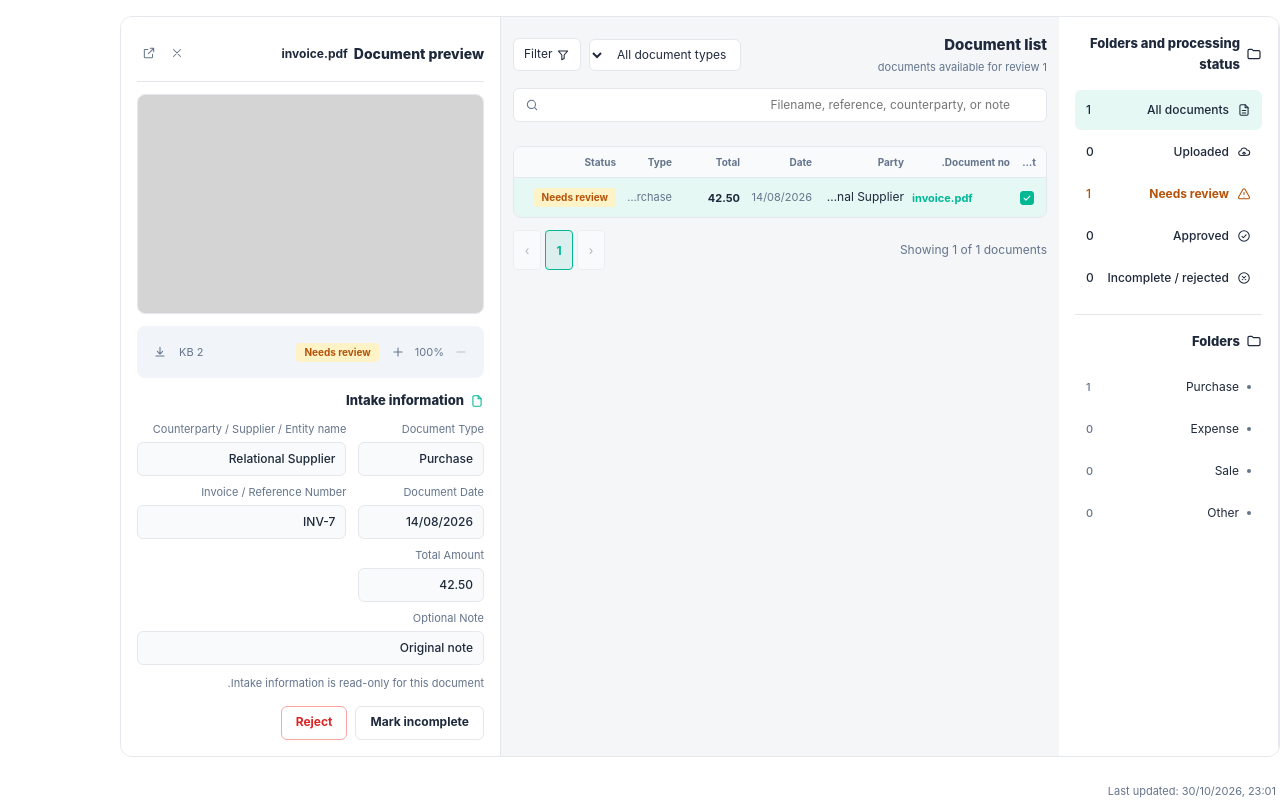
Documents › requires a reason before submitting Reject
(page scrolled)
Click the button "Reject": (314, 723) x1=281 y1=706 x2=348 y2=740
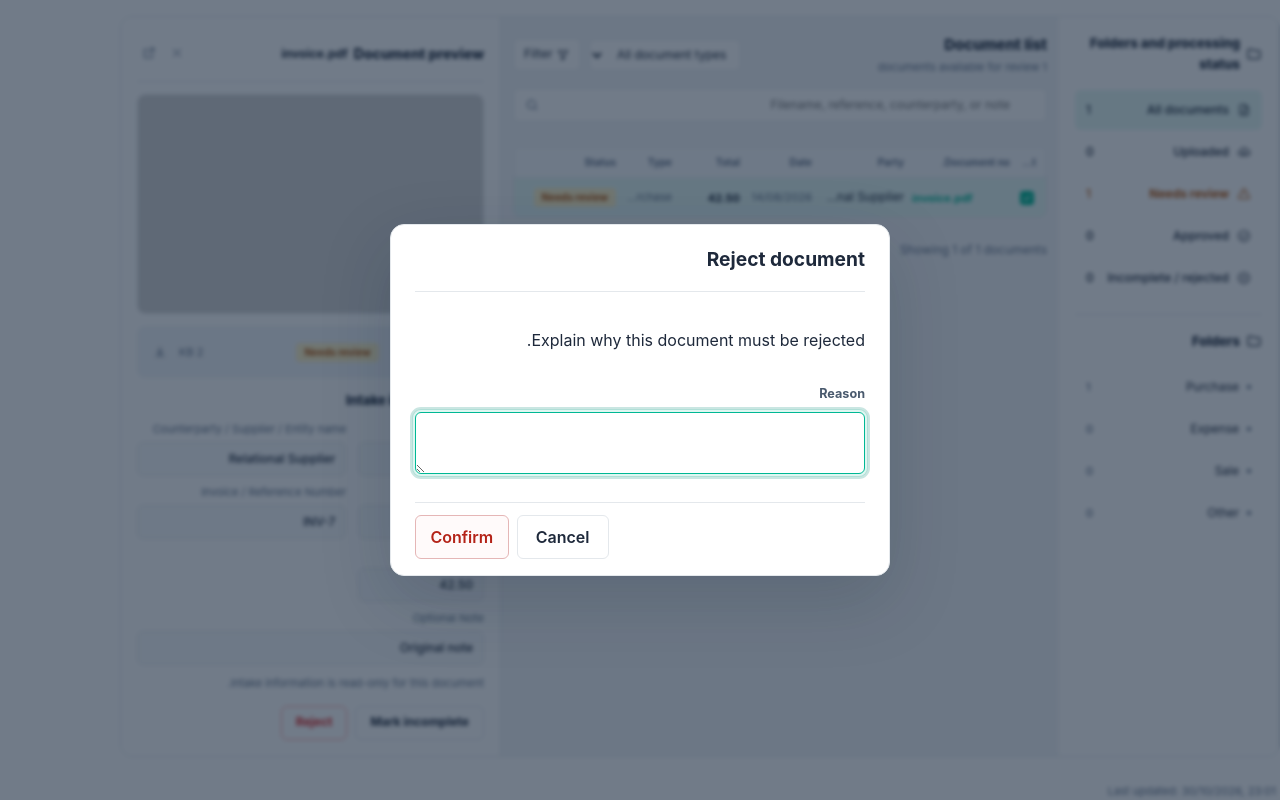
Submit the form "Confirm", box x1=415 y1=312 x2=865 y2=575
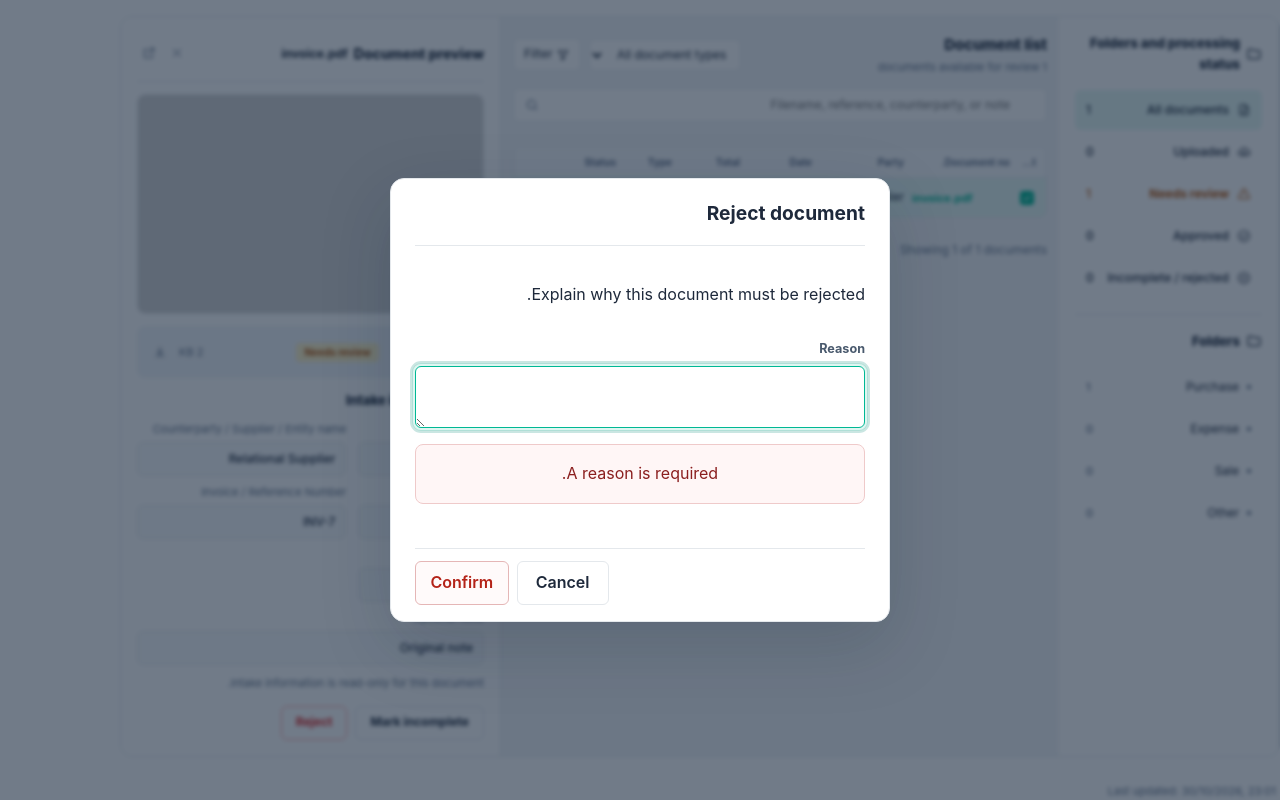
Result: the message reads "A reason is required." at x1=562 y1=463 x2=718 y2=483
